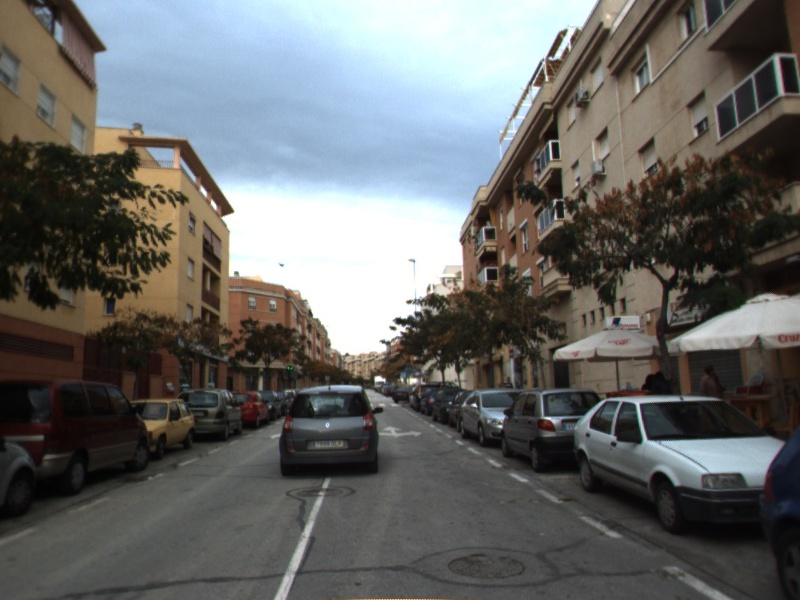STRAIGHT_LEFT_RIGHT: (377, 424, 425, 439)
